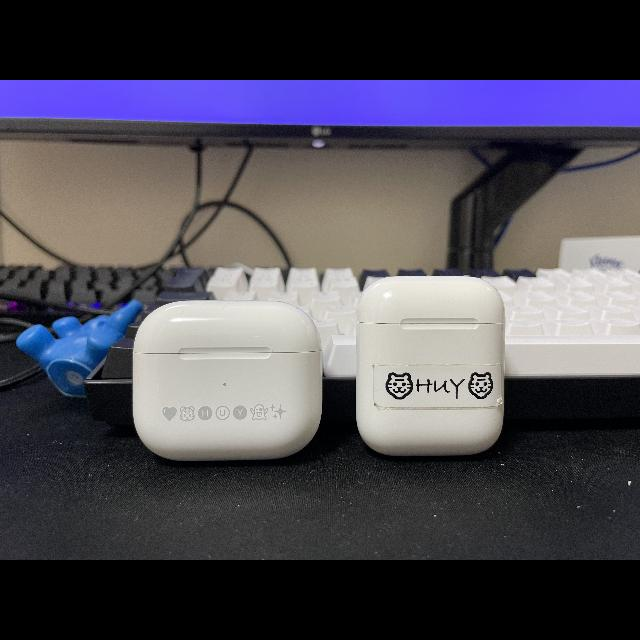airpod2: (354, 275, 514, 459)
airpod3: (127, 294, 329, 466)
